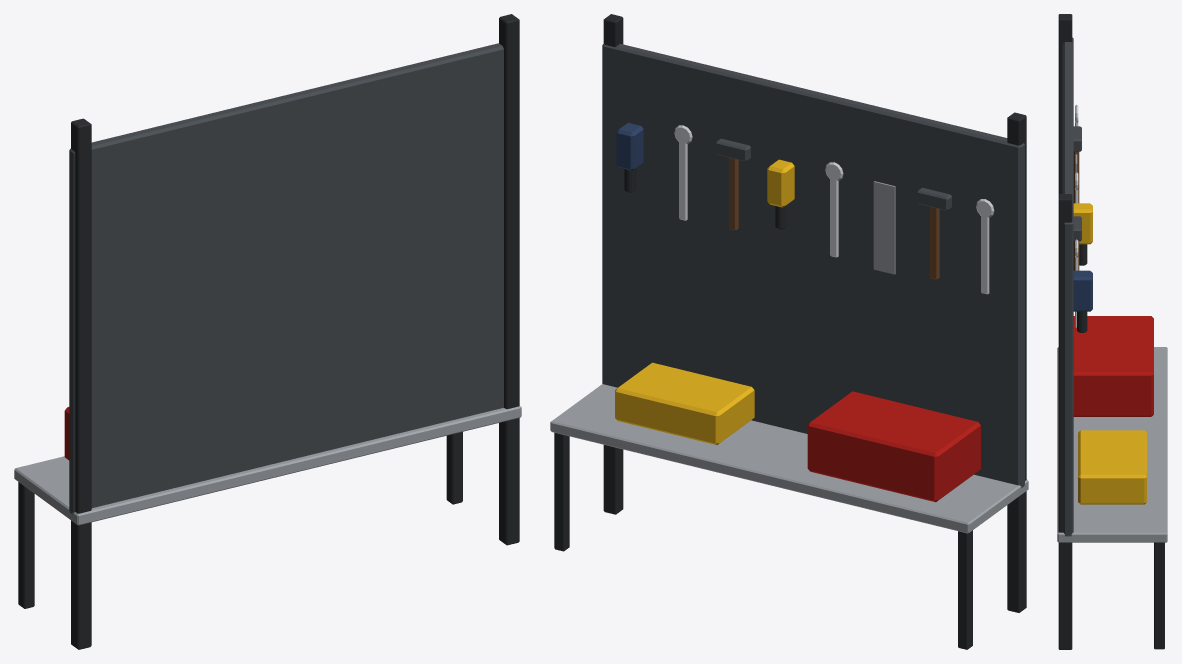
The model's file is tool_rack.glb.
3 views of the same model, side by side, from view 1: azimuth 30°, elevation 25°; view 2: azimuth 150°, elevation 25°; view 3: azimuth 270°, elevation 25° (orthographic). The views are drawn at different scales.
Visible parts, largest first — view 1: tool_rack; view 2: tool_rack; view 3: tool_rack.
Boxes of the visible parts, left/top/right/bottom form: tool_rack: left=14, top=14, right=521, bottom=649; tool_rack: left=550, top=14, right=1028, bottom=649; tool_rack: left=1057, top=14, right=1167, bottom=649.
Bounding box in the file's own units: 1.6 × 1.8 × 0.4.
